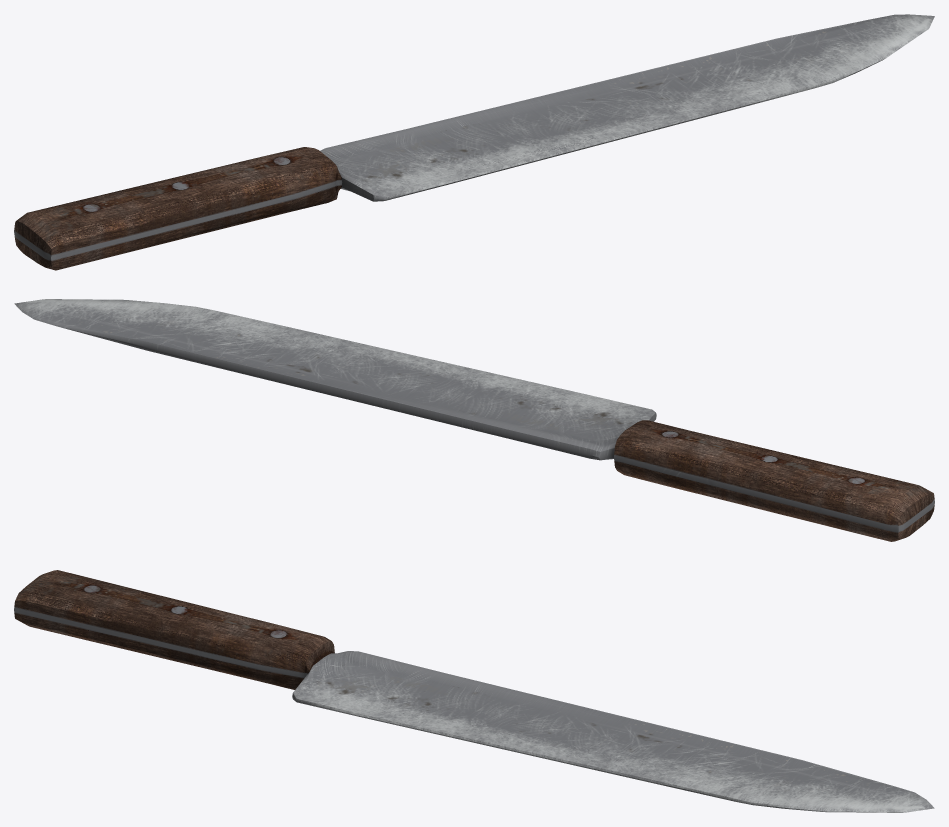
File: SM_Knife.FBX
3 renders of one model, top to bottom at view 1: azimuth 30°, elevation 25°; view 2: azimuth 150°, elevation 25°; view 3: azimuth 330°, elevation 25°, orthographic.
Visible parts, largest first — view 1: SM_Knife_LOD0; view 2: SM_Knife_LOD0; view 3: SM_Knife_LOD0.
Part boxes in pixels (box(x1,y1,x2,y2)): SM_Knife_LOD0: box(14, 14, 934, 270); SM_Knife_LOD0: box(14, 299, 934, 541); SM_Knife_LOD0: box(14, 570, 934, 812).
Bounding box in the file's own units: 38.98 × 4.7 × 1.85.
